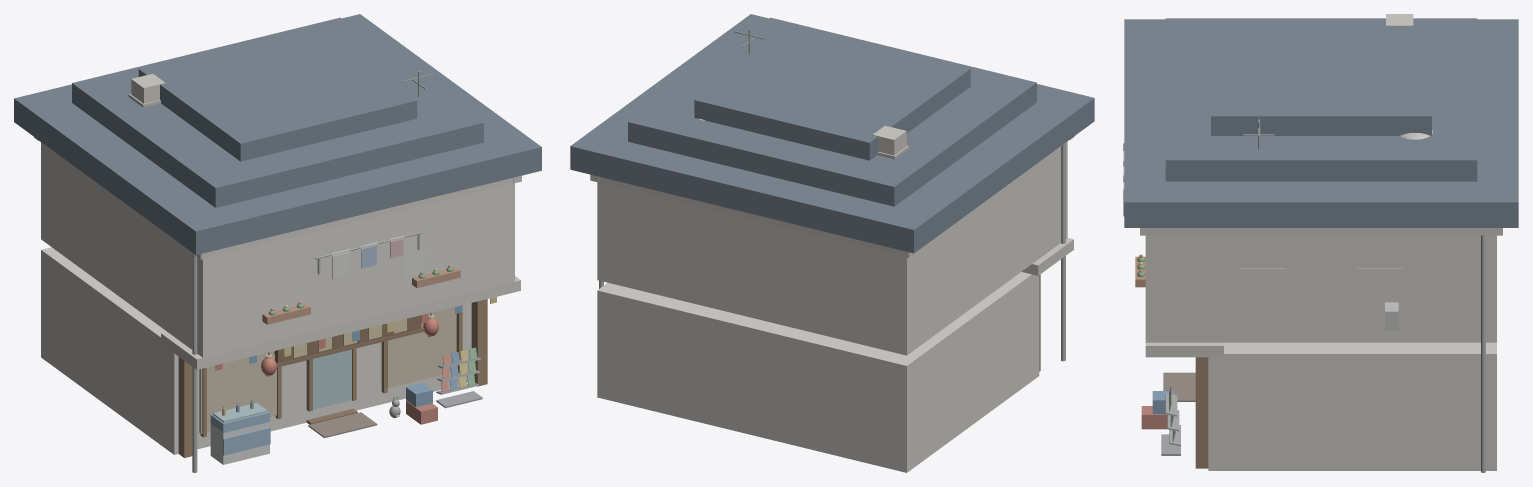
Rendered from store_04.glb.
The picture shows the model from 3 angles, left to right: view 1: azimuth 30°, elevation 25°; view 2: azimuth 150°, elevation 25°; view 3: azimuth 270°, elevation 25°; orthographic projection. The views are drawn at different scales.
Parts seen in each view (by area): view 1: store_04; view 2: store_04; view 3: store_04.
Boxes of the visible parts, x1,y1,x2,y2 form: store_04: [14, 14, 541, 472]; store_04: [570, 14, 1094, 472]; store_04: [1123, 14, 1518, 472].
Size of the model in its own units: 11.12 by 9.22 by 10.12.
